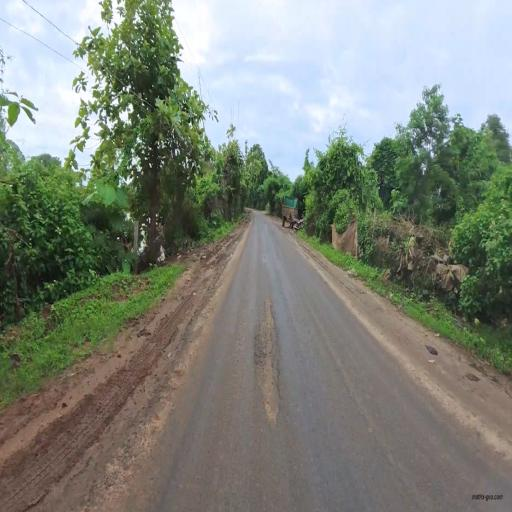ravelling: (241, 249, 310, 475)
